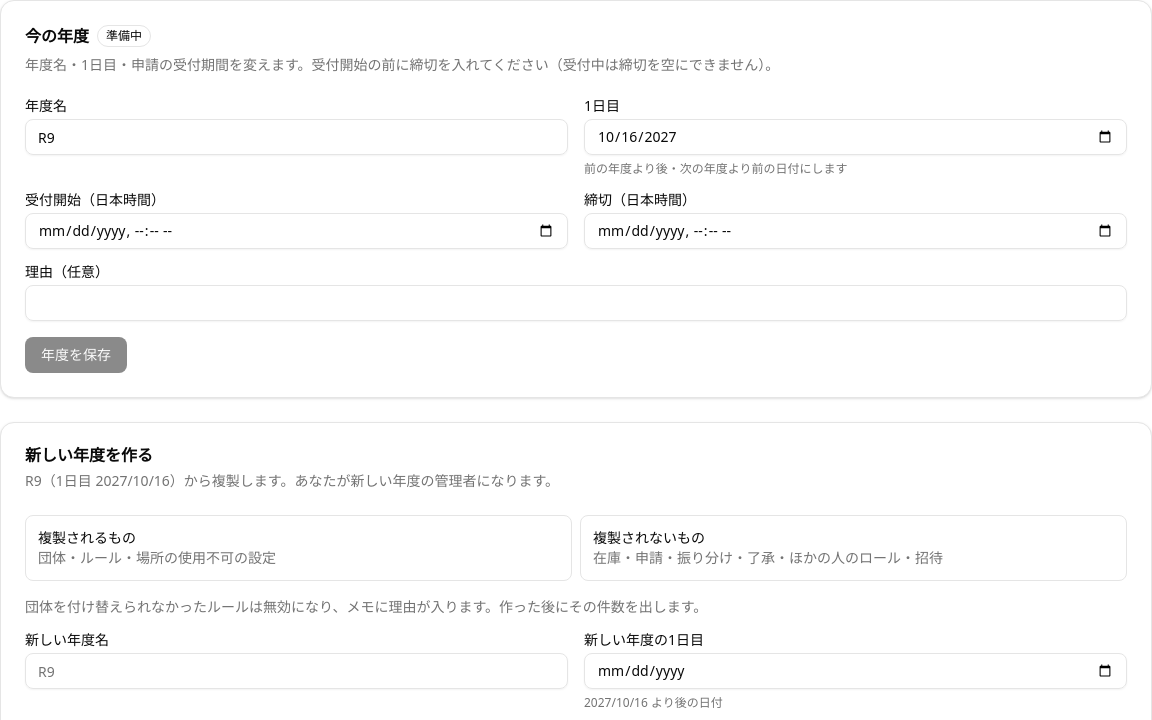
Scenario: 新しい年度を作った後の知らせ › 数えられなかった（null）：「通信できませんでした」と言わず、作れたものとして知らせ、フォームを空にして新しい年度に切り替える
Type "R10" into the field named "label" at [296, 671], box [25, 653, 568, 689]
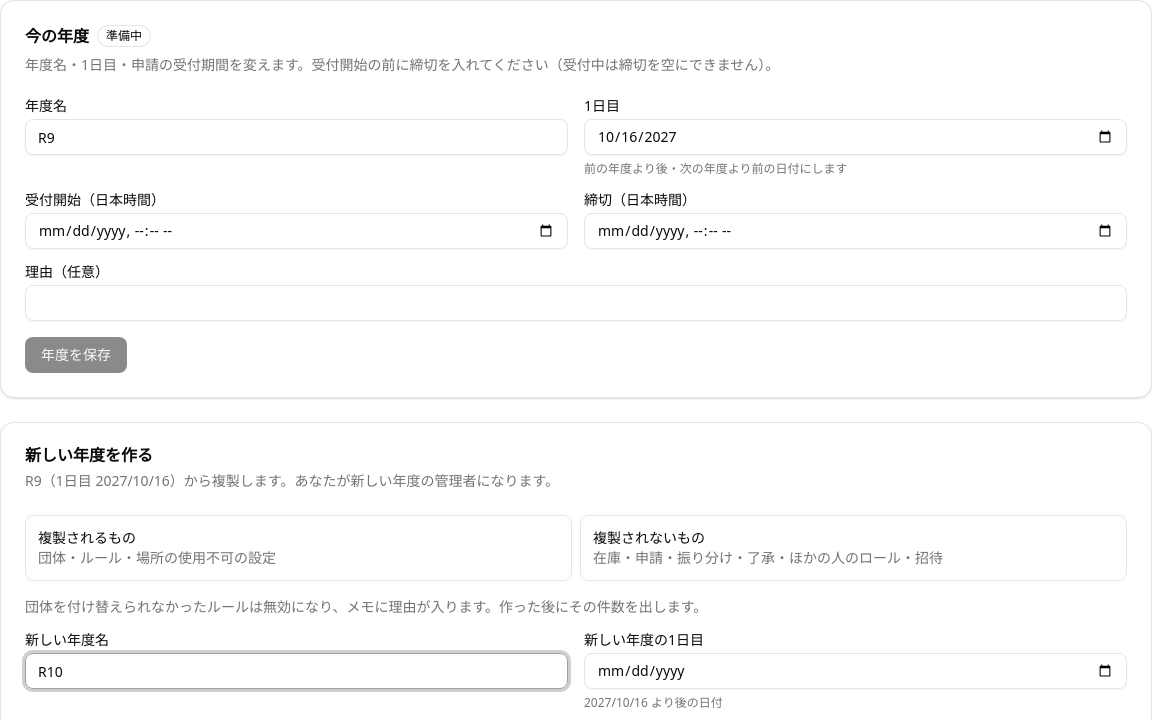
Type "2028-10-14" into the date field named "festival_start" at [856, 671], box [584, 653, 1127, 689]
(page scrolled)
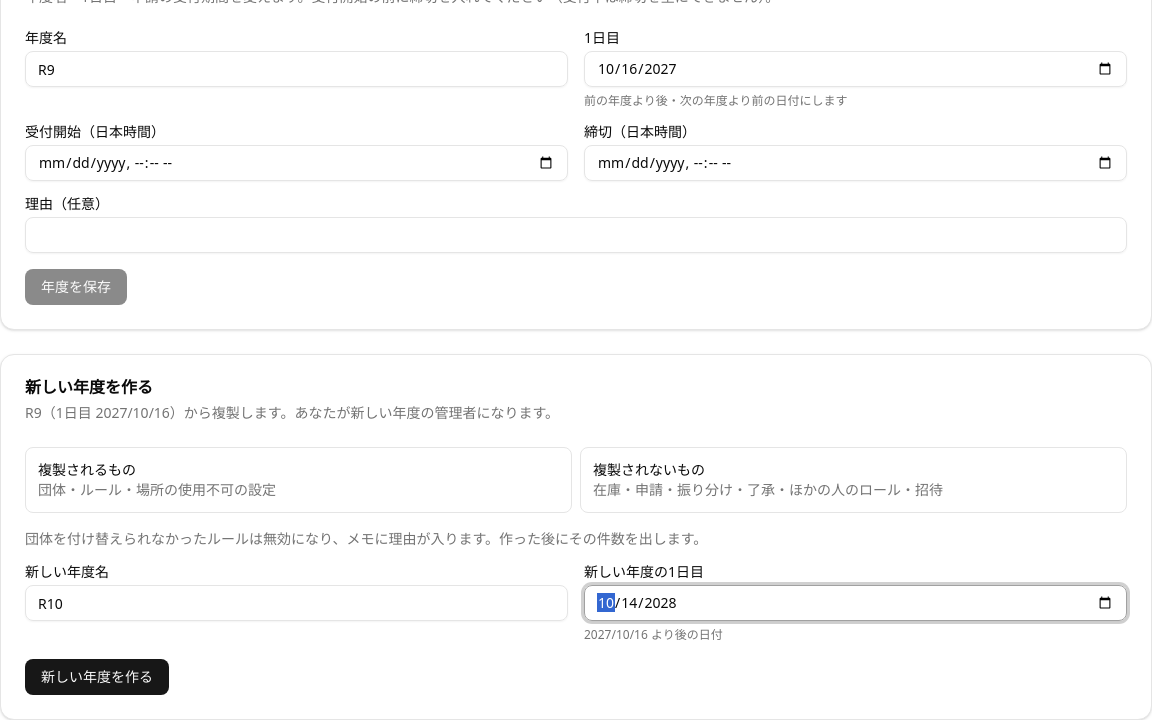
Click the button "新しい年度を作る" at [97, 677], box [25, 659, 169, 695]
(page scrolled)
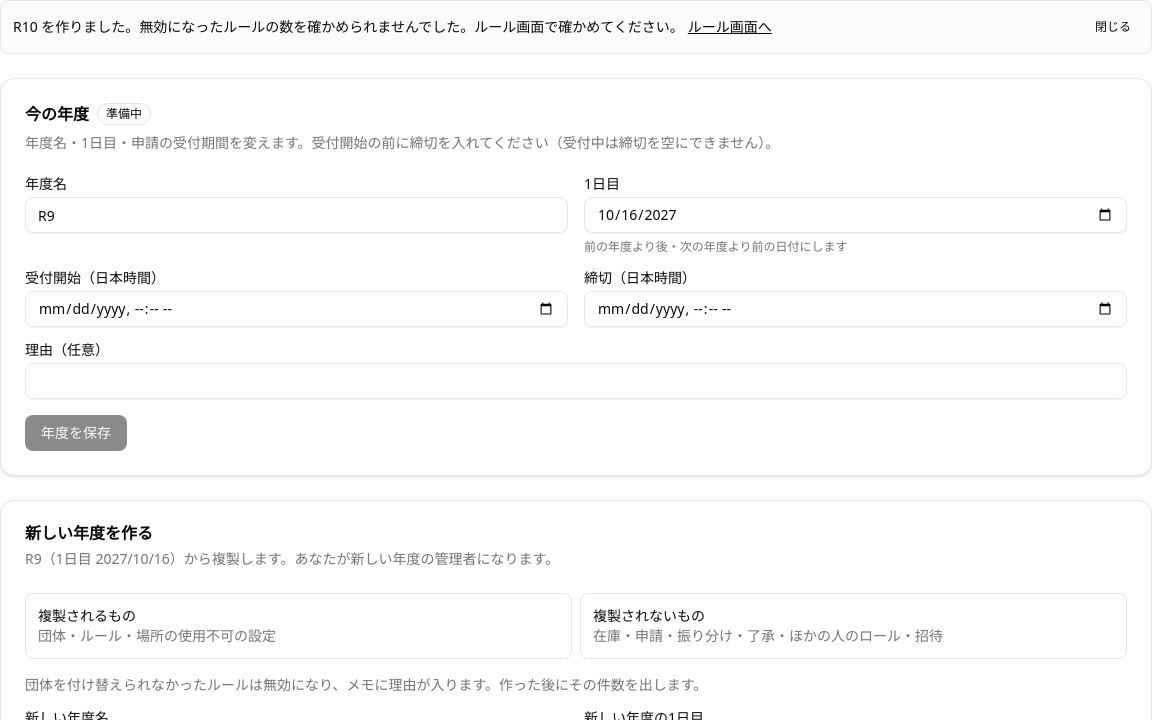
Check: the message with test id "year-created" shows "R10 を作りました。無効になったルールの数を確かめられませんでした。ルール画面で確かめてください。", box [0, 0, 1151, 54]
